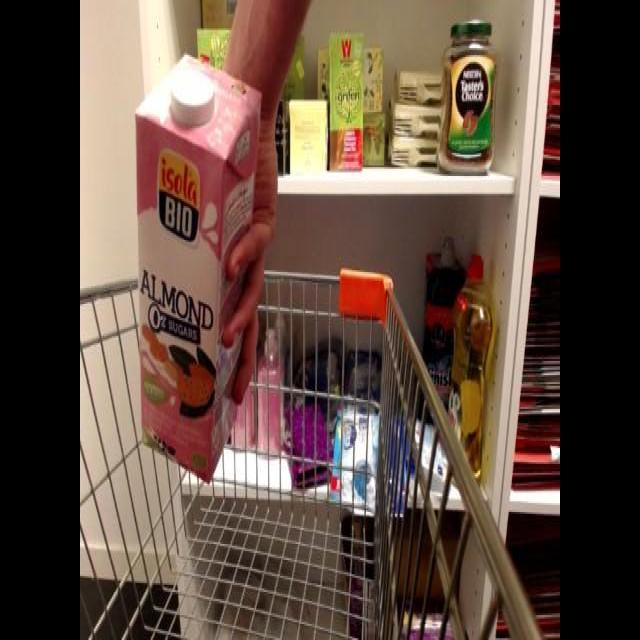Almond Milk: (130, 48, 268, 492)
